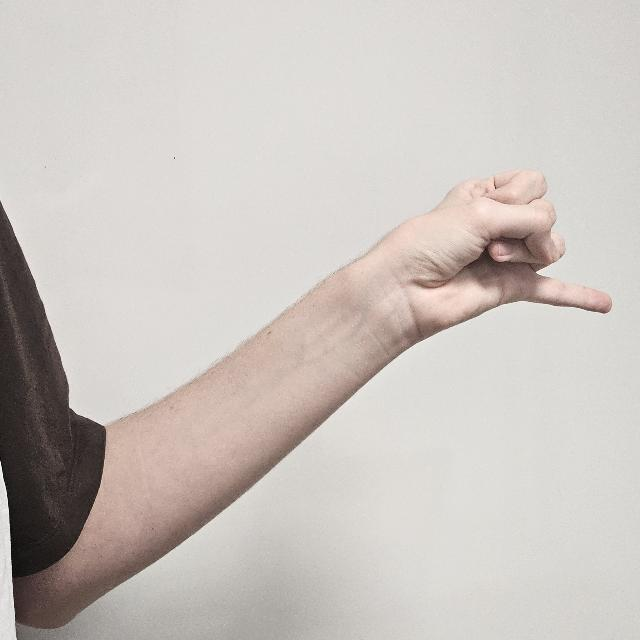Esquerda: (363, 114, 622, 358)
